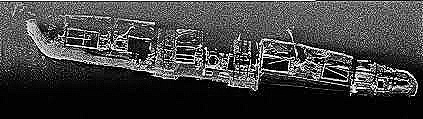ship: (23, 12, 419, 103)
